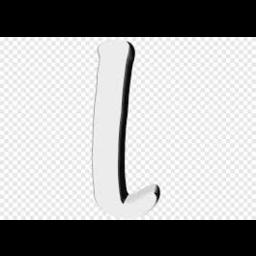l: (74, 36, 190, 220)
